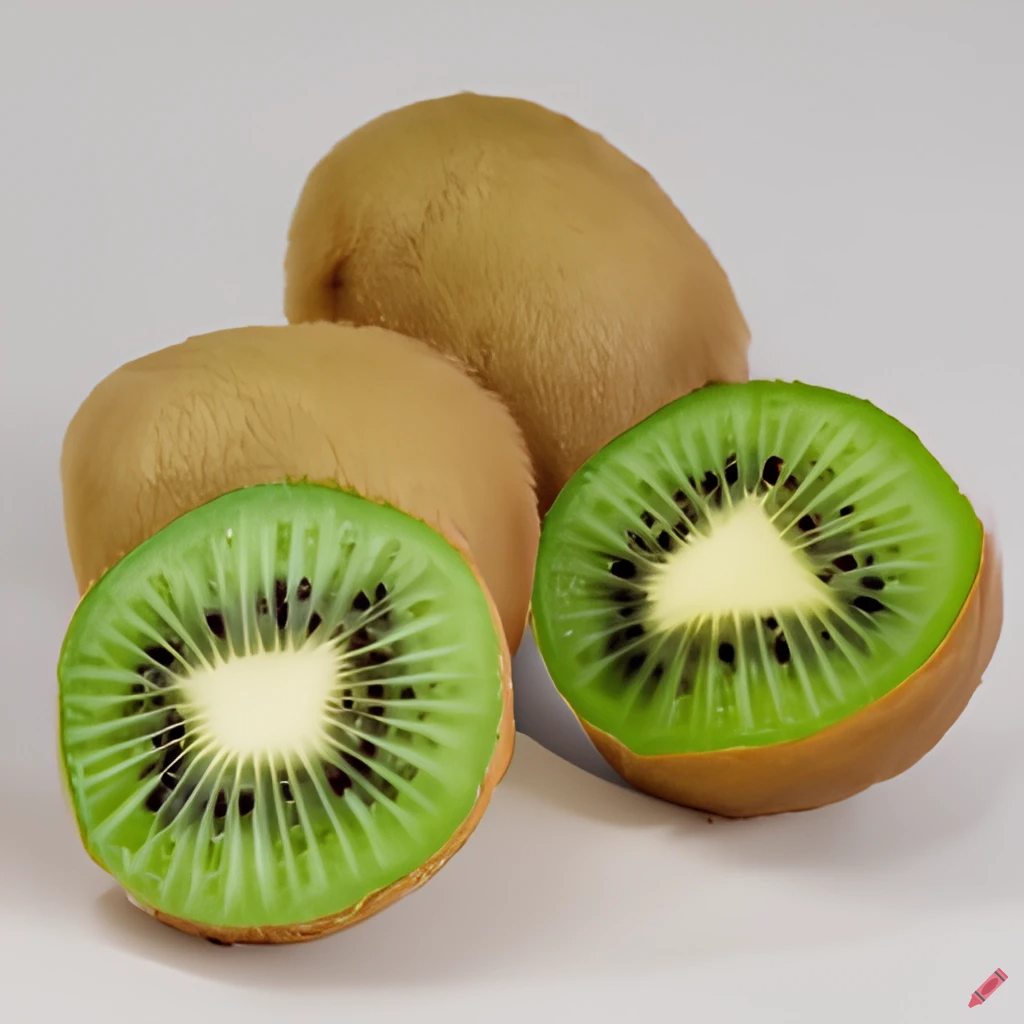Kiwi: (36, 479, 546, 982), (515, 359, 1024, 836)
